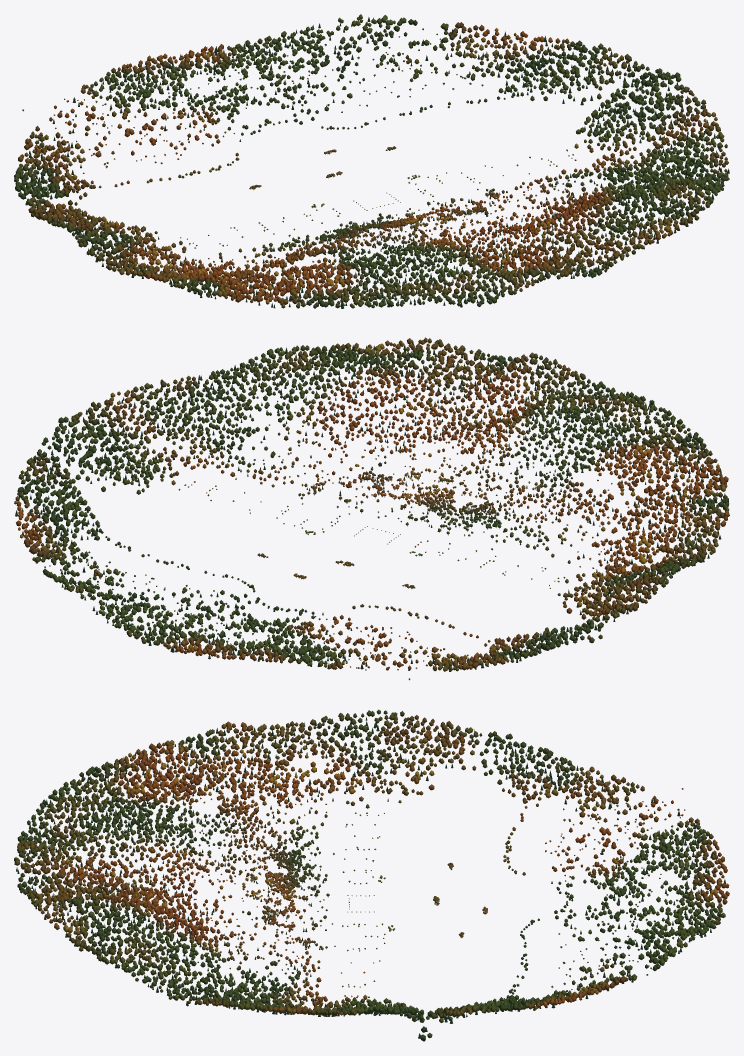
File: Branson_Flora.glb
The picture shows the model from 3 angles, top to bottom: view 1: azimuth 30°, elevation 25°; view 2: azimuth 150°, elevation 25°; view 3: azimuth 270°, elevation 25°; orthographic projection.
Parts seen in each view (by area): view 1: BR_Trees_1_3, BR_Trees_2_3, BR_Trees_0_2, BR_Trees_2_0, BR_Trees_0_1, BR_Trees_3_3, BR_Trees_1_0, BR_Trees_3_2, BR_Trees_2_2, BR_Trees_3_1, BR_Trees_0_3, BR_Trees_3_0 (+6 smaller); view 2: BR_Trees_1_3, BR_Trees_2_3, BR_Trees_0_2, BR_Trees_3_2, BR_Trees_3_3, BR_Trees_0_1, BR_Trees_2_0, BR_Trees_2_2, BR_Trees_1_0, BR_Trees_0_3, BR_Trees_3_1, BR_Trees_1_2 (+6 smaller); view 3: BR_Trees_2_3, BR_Trees_1_3, BR_Trees_3_2, BR_Trees_2_0, BR_Trees_3_3, BR_Trees_3_1, BR_Trees_1_0, BR_Trees_0_2, BR_Trees_2_2, BR_Trees_0_3, BR_Trees_1_2, BR_Trees_3_0 (+6 smaller).
Part boxes in pixels (x1,y1,x2,y2): BR_Trees_1_3: (479, 184, 688, 269); BR_Trees_2_3: (332, 225, 554, 306); BR_Trees_0_2: (548, 71, 727, 188); BR_Trees_2_0: (80, 46, 280, 146); BR_Trees_0_1: (452, 36, 665, 134); BR_Trees_3_3: (174, 257, 399, 308); BR_Trees_1_0: (214, 14, 437, 116); BR_Trees_3_2: (77, 223, 316, 286); BR_Trees_2_2: (258, 192, 465, 256); BR_Trees_3_1: (14, 159, 171, 235); BR_Trees_0_3: (620, 155, 729, 223); BR_Trees_3_0: (17, 97, 134, 172); BR_Trees_1_3: (282, 338, 517, 453); BR_Trees_2_3: (437, 366, 665, 481); BR_Trees_0_2: (55, 379, 271, 493); BR_Trees_3_2: (502, 482, 729, 592); BR_Trees_3_3: (594, 409, 729, 513); BR_Trees_0_1: (14, 431, 144, 563); BR_Trees_2_0: (175, 605, 391, 669); BR_Trees_2_2: (354, 453, 579, 567); BR_Trees_1_0: (53, 565, 250, 652); BR_Trees_0_3: (178, 343, 351, 416); BR_Trees_3_1: (416, 580, 642, 657); BR_Trees_1_2: (207, 415, 425, 533); BR_Trees_2_3: (40, 794, 217, 888); BR_Trees_1_3: (40, 866, 218, 959); BR_Trees_3_2: (214, 721, 393, 838); BR_Trees_2_0: (565, 817, 729, 906); BR_Trees_3_3: (51, 729, 217, 805); BR_Trees_3_1: (389, 729, 567, 839); BR_Trees_1_0: (566, 894, 727, 980); BR_Trees_0_2: (214, 964, 392, 1016); BR_Trees_2_2: (215, 806, 385, 912); BR_Trees_0_3: (74, 937, 218, 1006); BR_Trees_1_2: (215, 891, 391, 985); BR_Trees_3_0: (564, 760, 685, 832).
Bounding box in the file's own units: 2124 × 187 × 2127.
